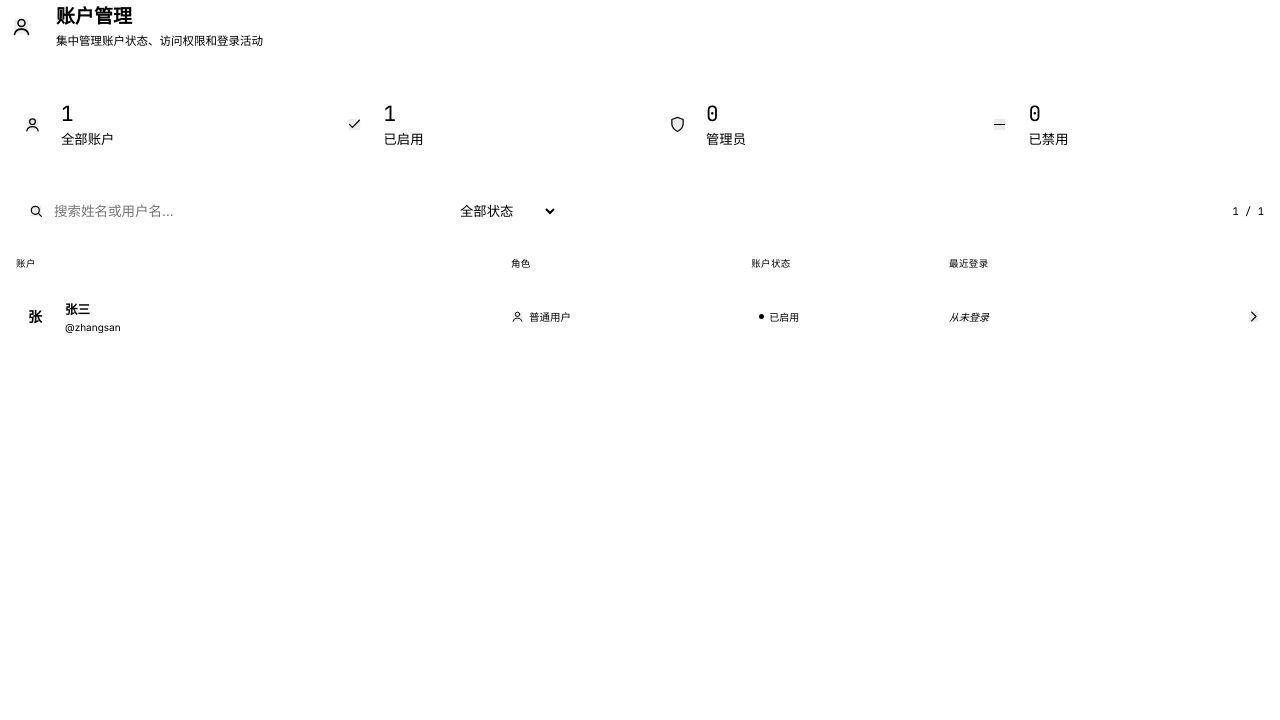
Test: admin management controls › shows a structured account detail dialog with complete action groups
This screenshot has width=1280, height=720.
What coordinates should you click on to do the following:
click the button "张 张三 @zhangsan 普通用户 已启用 从未登录"
I would click on:
 (98, 327)
Its box is [0, 282, 1279, 350].
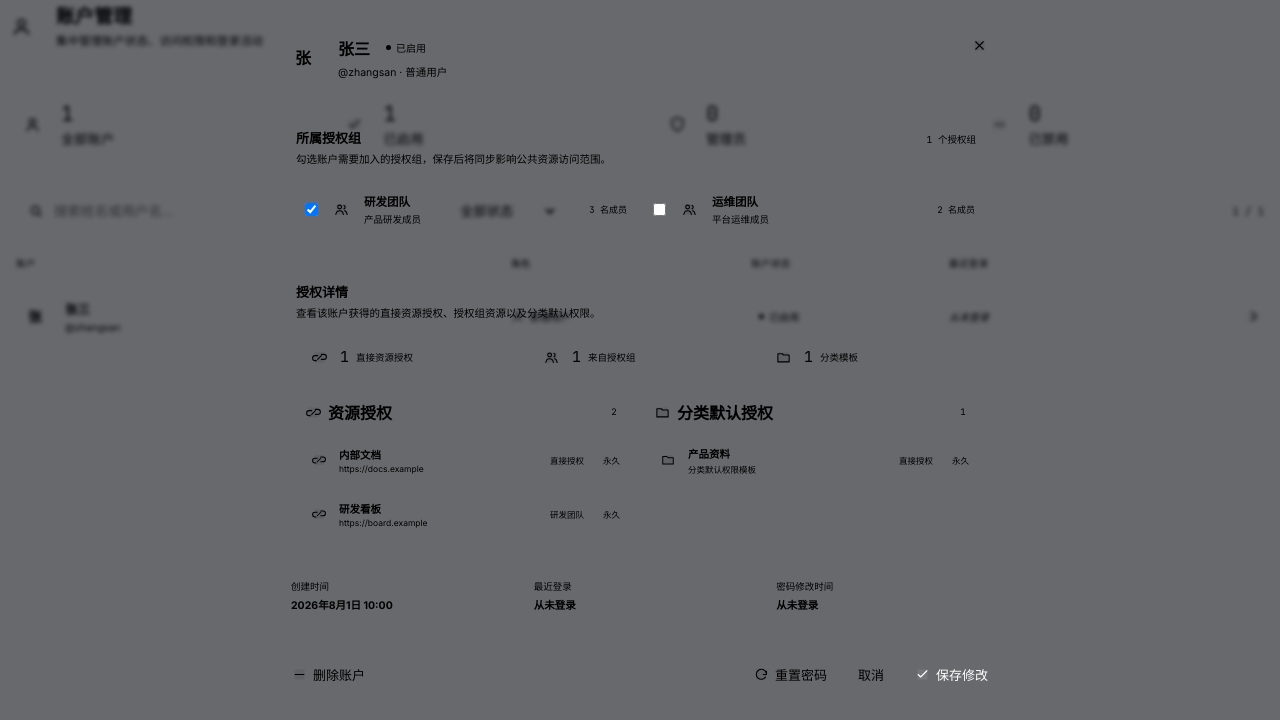
Expected: the button "删除账户" is shown, [280, 657, 377, 691]
Expected: the button "重置密码" is shown, [742, 657, 839, 691]
Expected: the button "取消" is shown, [846, 657, 896, 691]
